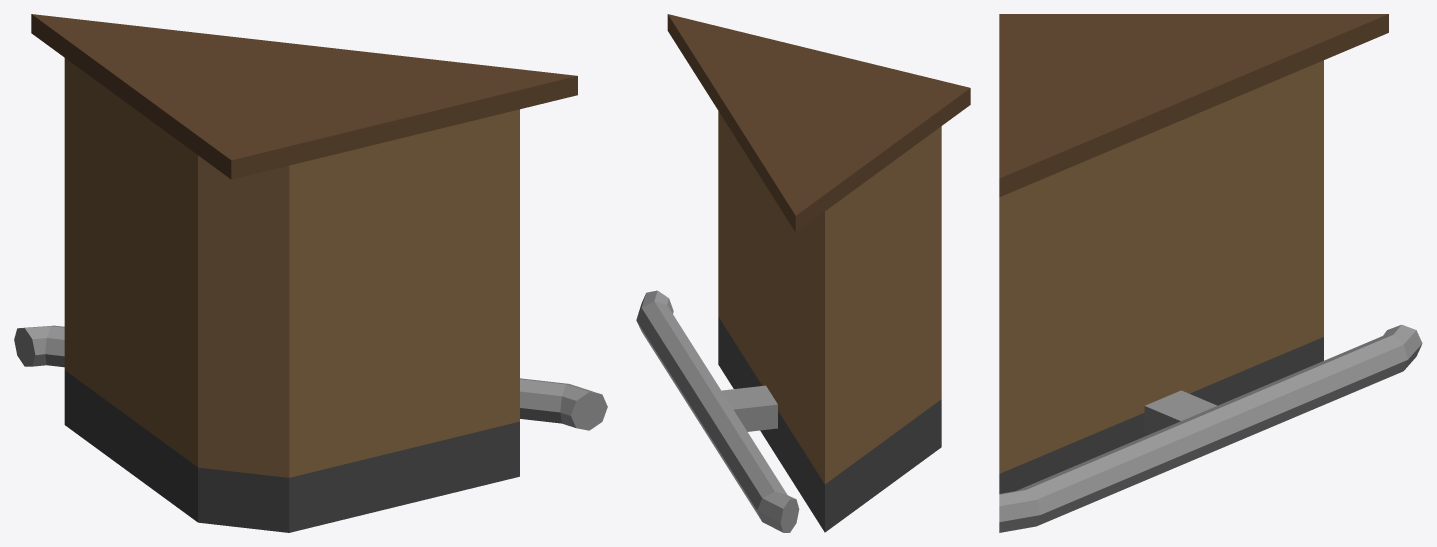
Rendered from Bar Counter  Corner Top.fbx.
3 views of the same model, side by side, from view 1: azimuth 30°, elevation 25°; view 2: azimuth 150°, elevation 25°; view 3: azimuth 270°, elevation 25° (orthographic). The views are drawn at different scales.
Visible parts, largest first — view 1: Bar Counter Corner Top, Bar Counter Corner Pole; view 2: Bar Counter Corner Top, Bar Counter Corner Pole; view 3: Bar Counter Corner Top, Bar Counter Corner Pole.
Boxes of the visible parts, <box> form: Bar Counter Corner Top: <box>31,14,577,532</box>; Bar Counter Corner Pole: <box>14,325,607,430</box>; Bar Counter Corner Top: <box>667,14,970,532</box>; Bar Counter Corner Pole: <box>636,290,799,532</box>; Bar Counter Corner Top: <box>999,14,1388,493</box>; Bar Counter Corner Pole: <box>999,324,1422,532</box>.
Size of the model in its own units: 815 by 800 by 815.
